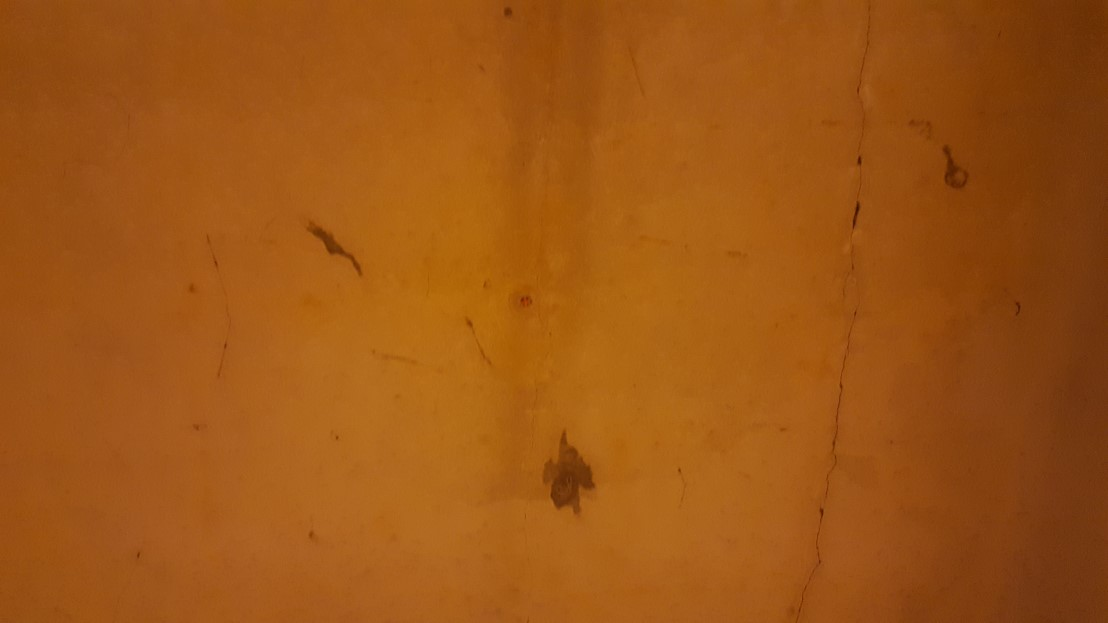Crack: (782, 0, 882, 623), (164, 168, 254, 409)
